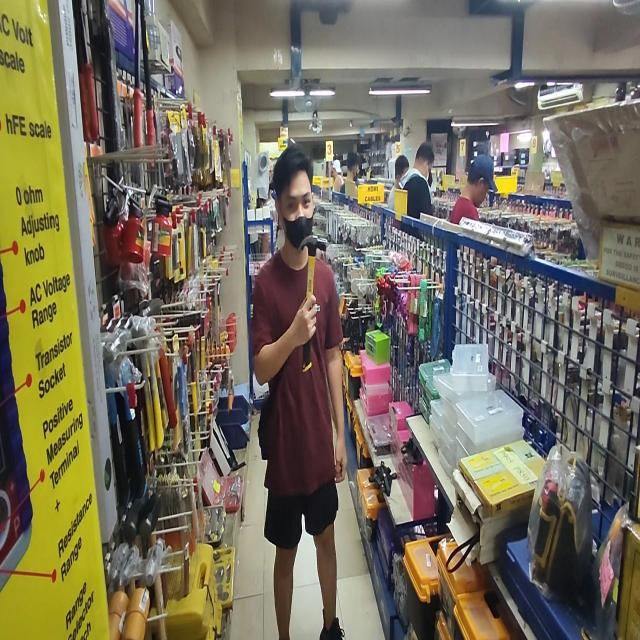hammer: (299, 234, 327, 372)
